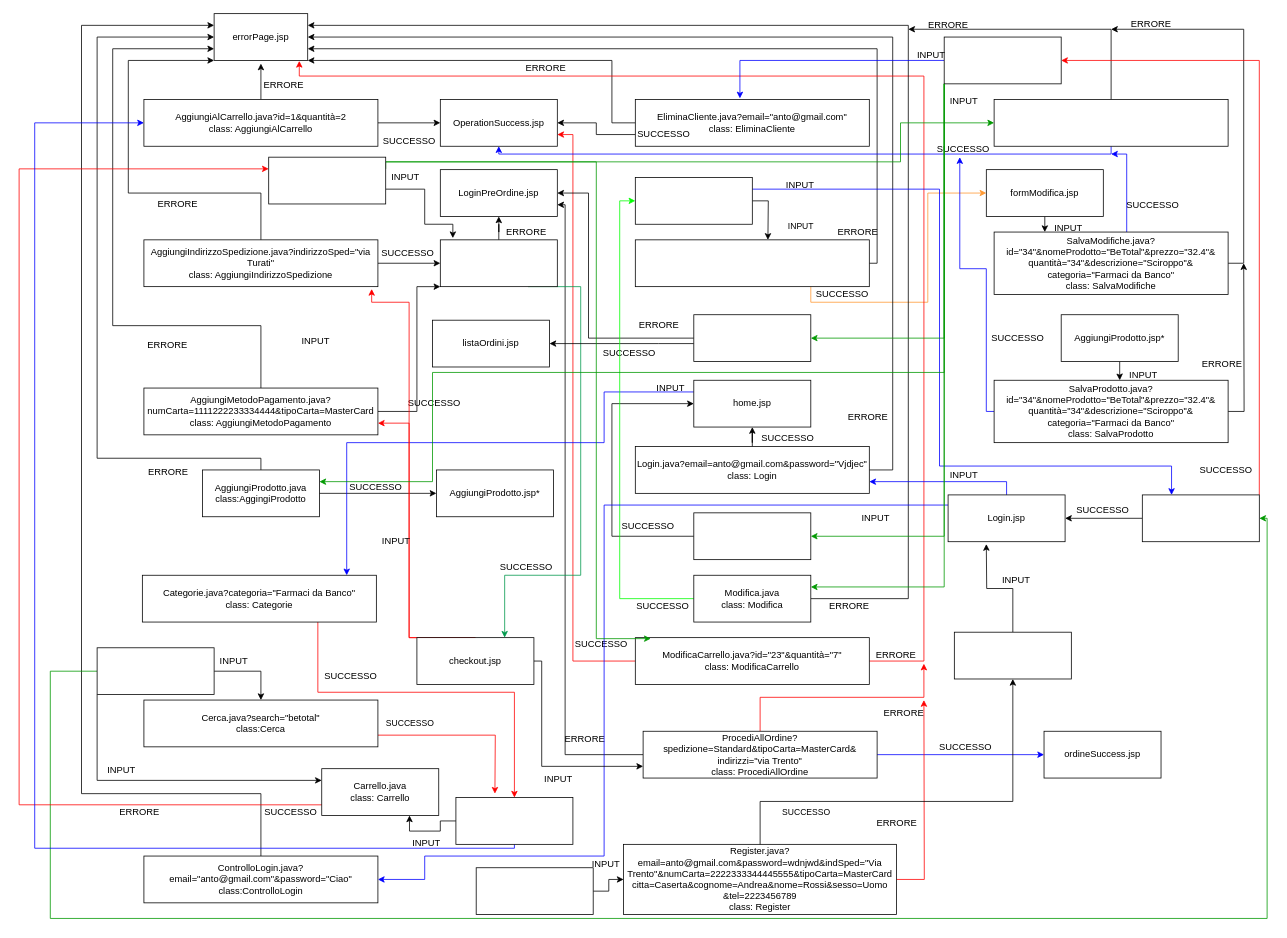
The diagram is 1287 pixels wide and 938 high, and some of its shapes have lost their labels. The centre of each missing label's shape, as x and y in pixels:
carrello.jsp: the point at 327,180
Checkout.java class: Checkout: the point at 498,263
FormModifica.java?id=23 class: FormModifica: the point at 752,263
header.jsp: the point at 155,671
ListaOrdini.java class: ListaOrrdini: the point at 752,338
listaProdotti.jsp: the point at 514,820
Logout.java class: Logout: the point at 752,536
modifica.jsp: the point at 693,200
Register.jsp: the point at 534,891
registerSuccess.jsp: the point at 1012,655
RimuoviDalCarrello?id=2 class: RimuoviDalCarrello: the point at 1110,122
user.jsp: the point at 1002,60
UserPage.java class: UserPage: the point at 1200,518
